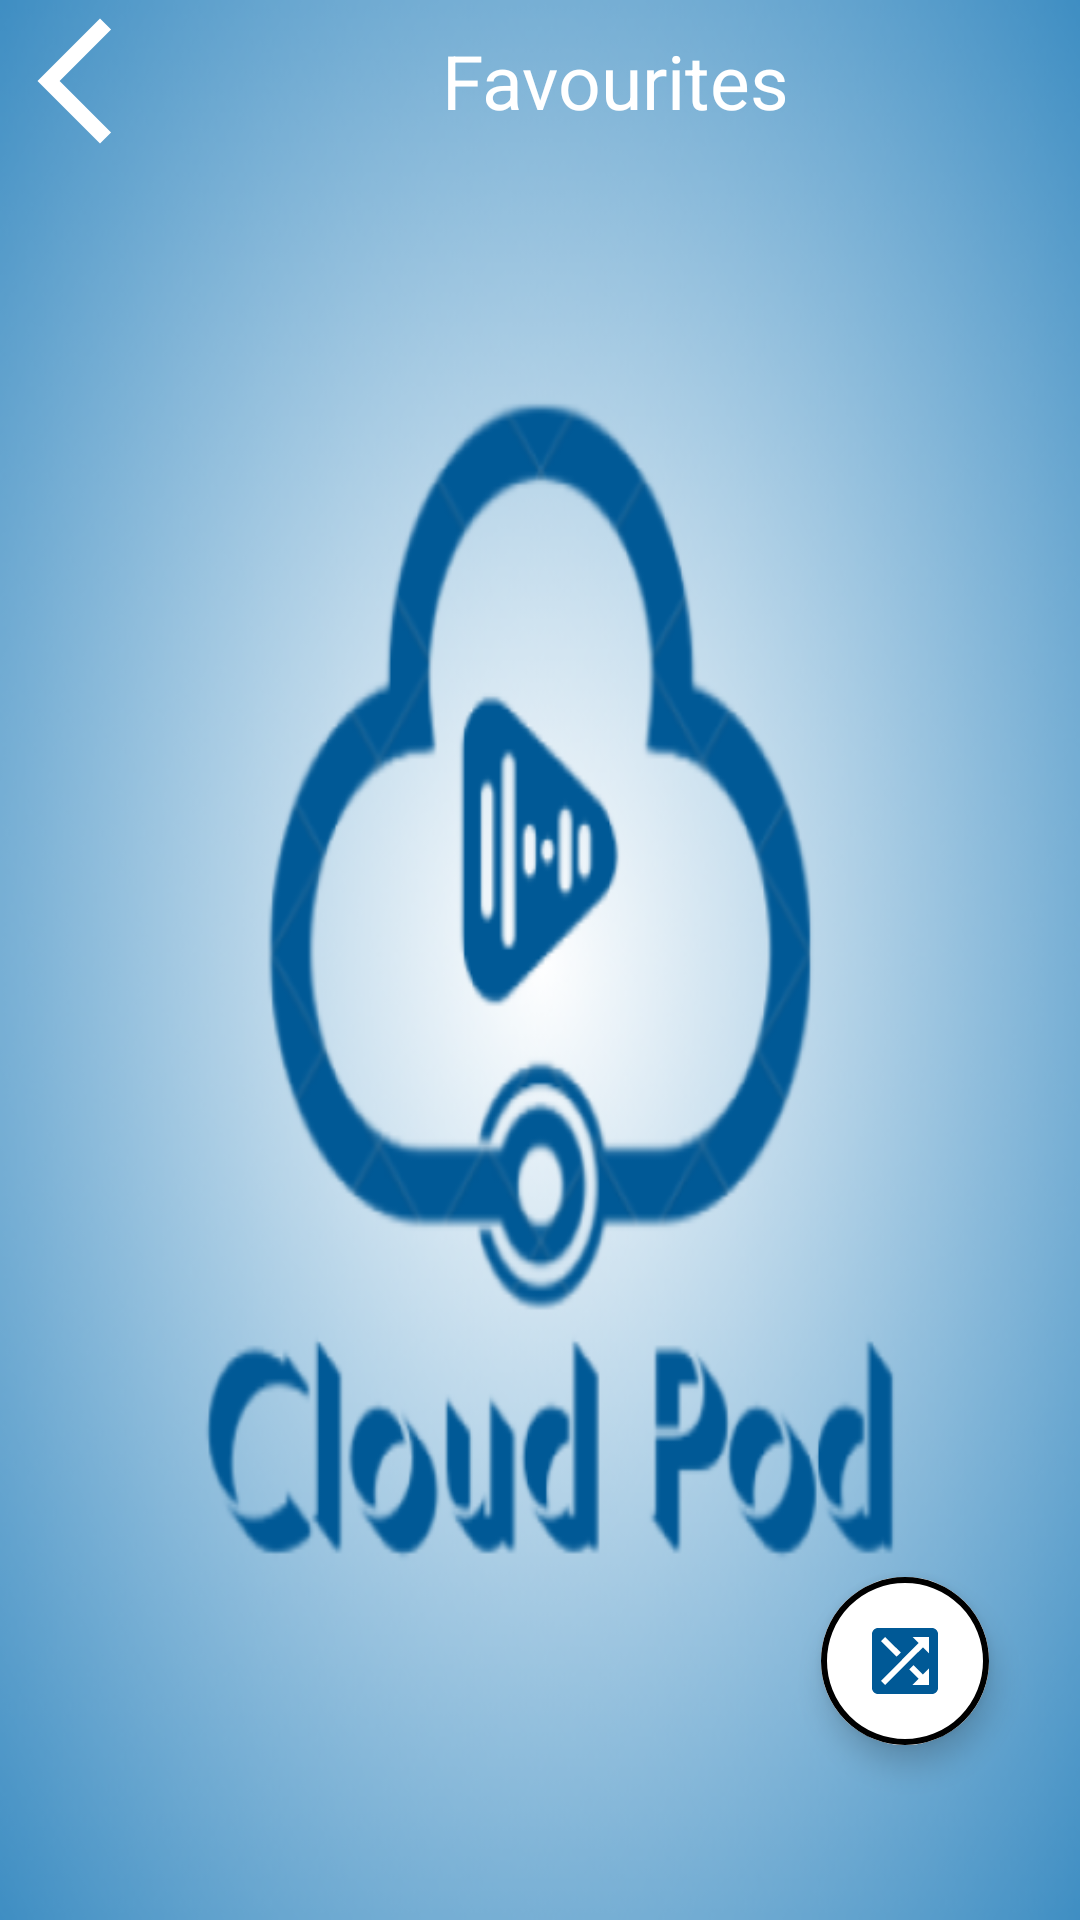

Screen size 1080*1920. Icon name, then its center in pixels as (x,y):
Back: (75,81)
Shuffle: (905,1661)
